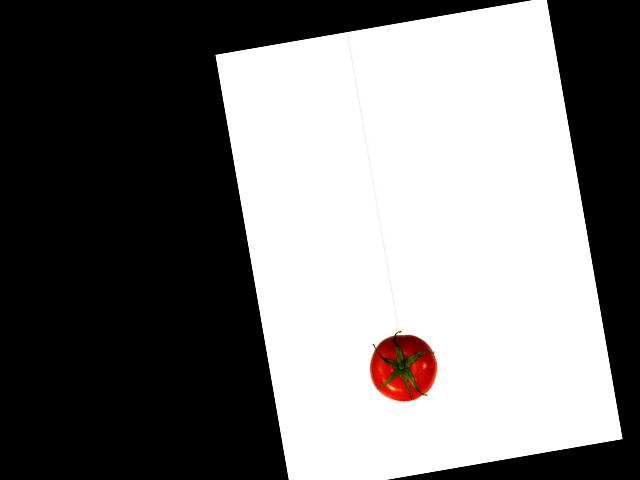tomato: (365, 329, 442, 407)
